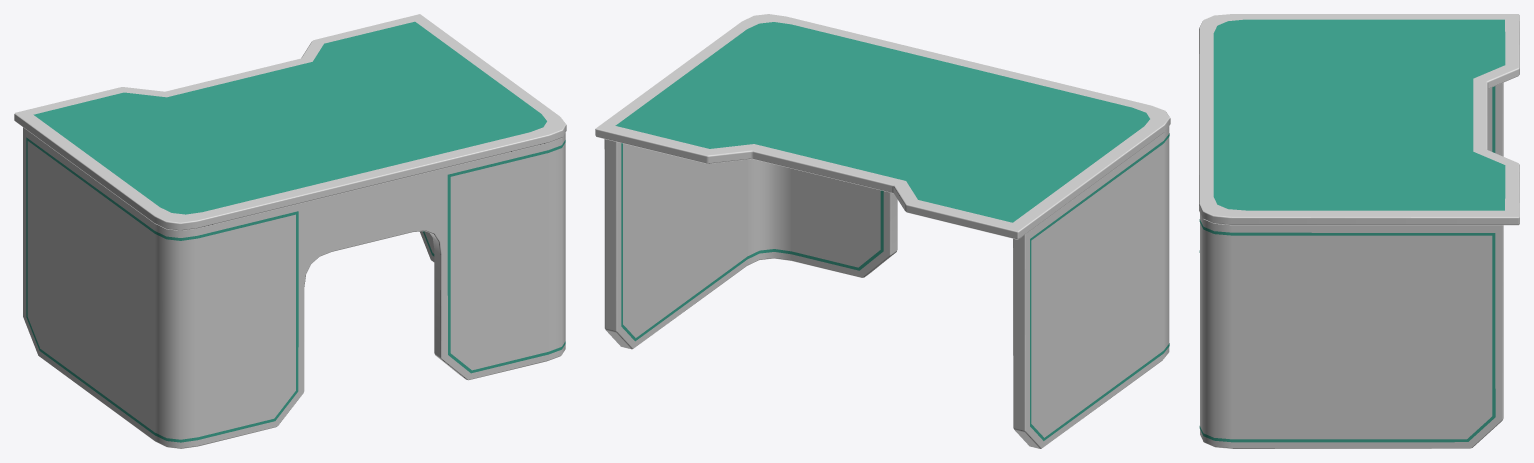
The model's file is FUR0310015.fbx.
The picture shows the model from 3 angles, left to right: view 1: azimuth 30°, elevation 25°; view 2: azimuth 150°, elevation 25°; view 3: azimuth 270°, elevation 25°; orthographic projection. The views are drawn at different scales.
Visible parts, largest first — view 1: smFUR0310015; view 2: smFUR0310015; view 3: smFUR0310015.
Boxes of the visible parts, x1,y1,x2,y2 form: smFUR0310015: (14, 14, 566, 448); smFUR0310015: (595, 14, 1170, 448); smFUR0310015: (1199, 14, 1519, 448).
Bounding box in the file's own units: 210 × 112 × 140.
1 material, 1 textured.
